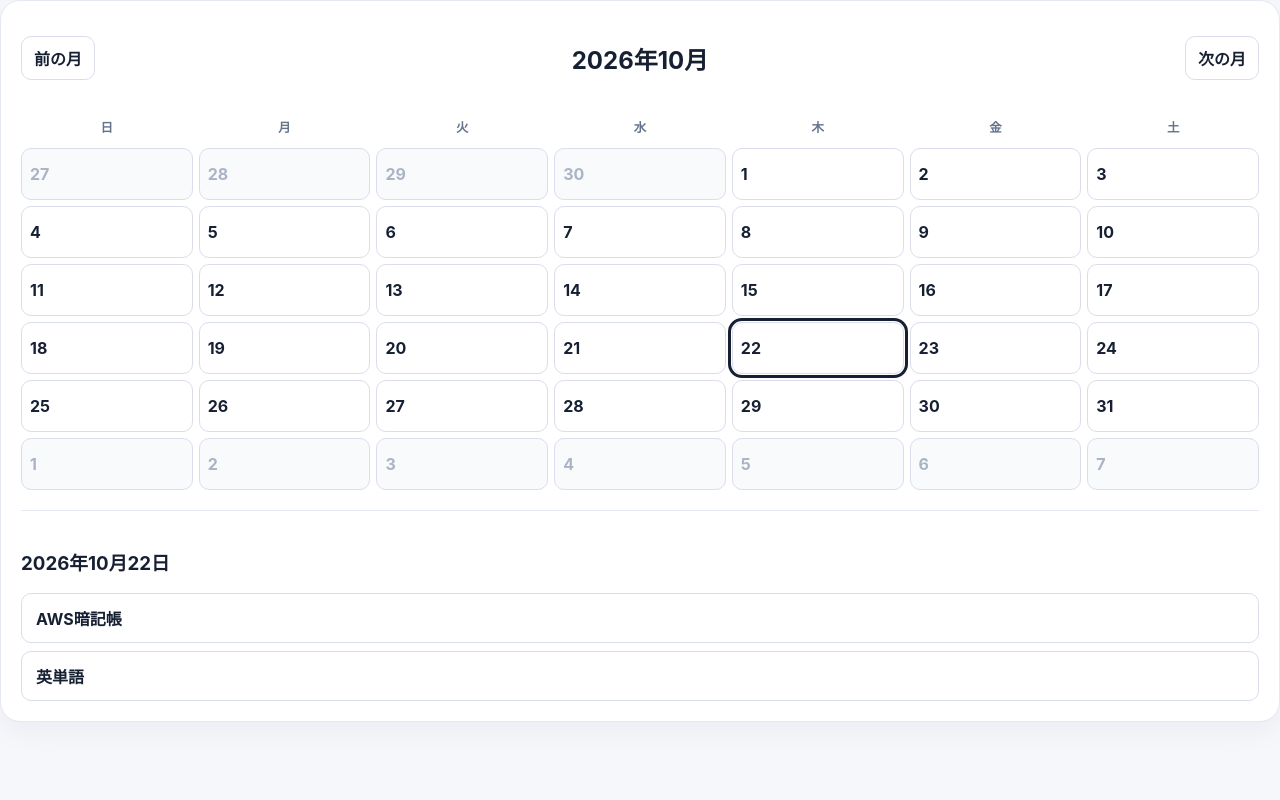
Test: CalendarView › renders a six-week grid and updates the month when an outside date is selected
Click the button named "2026-09-27" at x=107, y=174, box x1=21 y1=148 x2=193 y2=200
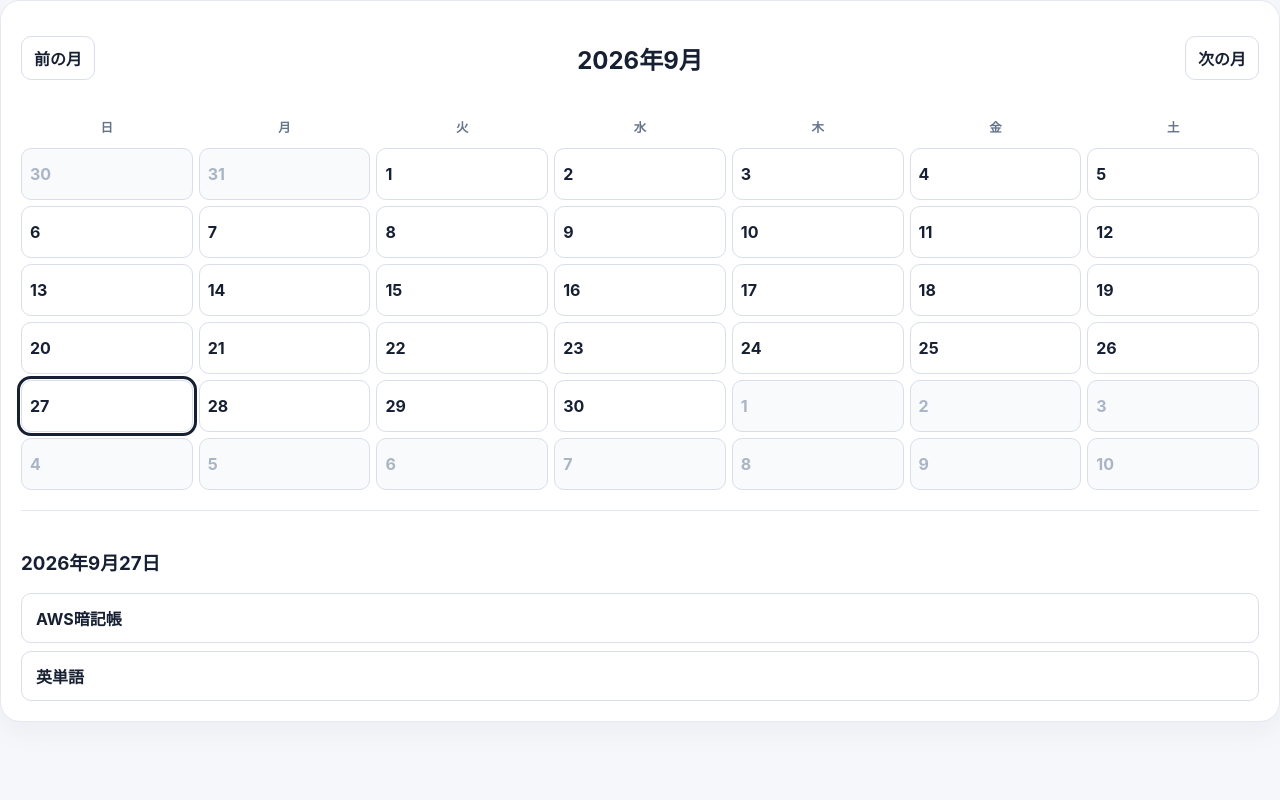
Now the heading "2026年9月" is shown, box x1=577 y1=41 x2=703 y2=76
Now the heading "2026年9月27日" is shown, box x1=21 y1=552 x2=160 y2=574
